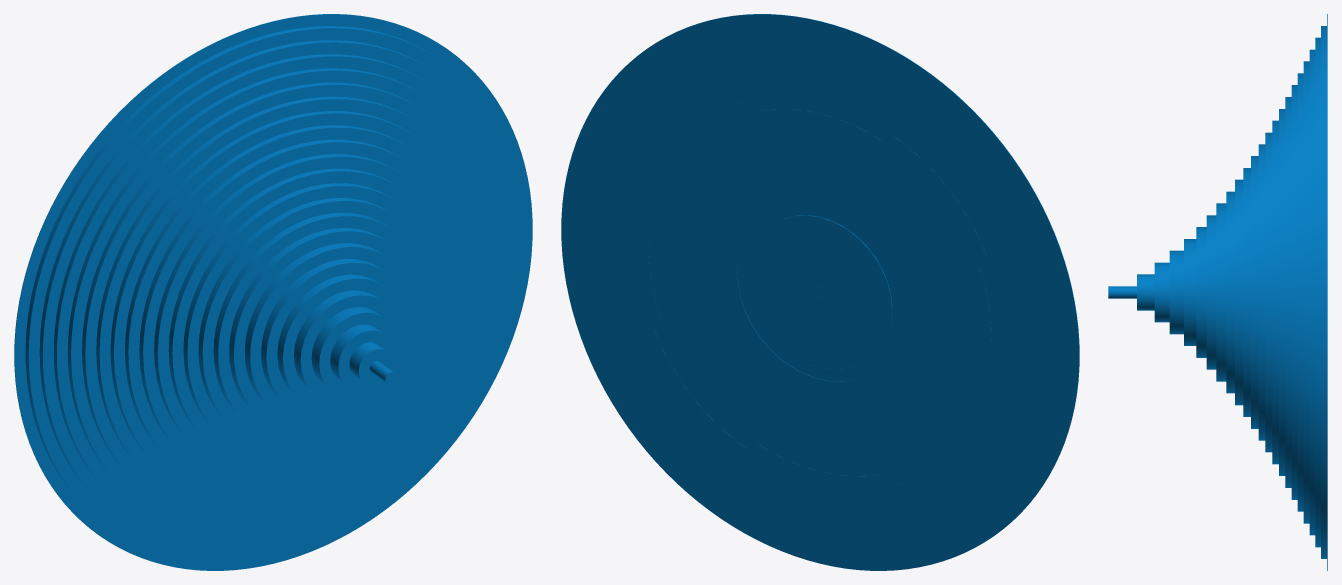
File: corteza acumulado.fbx
3 views of the same model, side by side, from view 1: azimuth 30°, elevation 25°; view 2: azimuth 150°, elevation 25°; view 3: azimuth 270°, elevation 25° (orthographic). The views are drawn at different scales.
Parts seen in each view (by area): view 1: polySurface82, polySurface81, polySurface83, polySurface80, polySurface79, polySurface78, polySurface77, polySurface75, polySurface76, polySurface74, polySurface73, polySurface72 (+11 smaller); view 2: polySurface83, polySurface82, polySurface81, polySurface80, polySurface79, polySurface78, polySurface77, polySurface75, polySurface76, polySurface74, polySurface73, polySurface72 (+11 smaller); view 3: polySurface80, polySurface79, polySurface82, polySurface78, polySurface81, polySurface77, polySurface75, polySurface76, polySurface73, polySurface74, polySurface72, polySurface70 (+12 smaller).
Boxes of the visible parts, <box> form: polySurface82: <box>25,26,524,561</box>; polySurface81: <box>39,40,516,551</box>; polySurface83: <box>14,14,532,570</box>; polySurface80: <box>53,54,508,542</box>; polySurface79: <box>68,68,500,532</box>; polySurface78: <box>82,82,493,523</box>; polySurface77: <box>96,96,485,513</box>; polySurface75: <box>110,111,477,504</box>; polySurface76: <box>125,125,470,494</box>; polySurface74: <box>139,139,462,485</box>; polySurface73: <box>154,154,455,476</box>; polySurface72: <box>168,168,448,467</box>; polySurface83: <box>561,14,1079,570</box>; polySurface82: <box>572,26,1068,558</box>; polySurface81: <box>583,38,1057,547</box>; polySurface80: <box>594,49,1046,535</box>; polySurface79: <box>605,61,1035,523</box>; polySurface78: <box>616,73,1024,511</box>; polySurface77: <box>627,85,1013,499</box>; polySurface75: <box>638,97,1002,488</box>; polySurface76: <box>649,109,991,476</box>; polySurface74: <box>660,120,980,464</box>; polySurface73: <box>671,132,969,452</box>; polySurface72: <box>682,144,958,440</box>; polySurface80: <box>1309,49,1315,535</box>; polySurface79: <box>1303,61,1309,523</box>; polySurface82: <box>1321,26,1326,558</box>; polySurface78: <box>1297,73,1303,511</box>; polySurface81: <box>1315,37,1320,547</box>; polySurface77: <box>1291,85,1297,499</box>; polySurface75: <box>1285,97,1291,487</box>; polySurface76: <box>1279,109,1285,475</box>; polySurface73: <box>1265,132,1272,452</box>; polySurface74: <box>1272,120,1278,464</box>; polySurface72: <box>1258,144,1265,440</box>; polySurface70: <box>1251,156,1258,428</box>.
Size of the model in its own units: 40 by 40 by 15.73.
